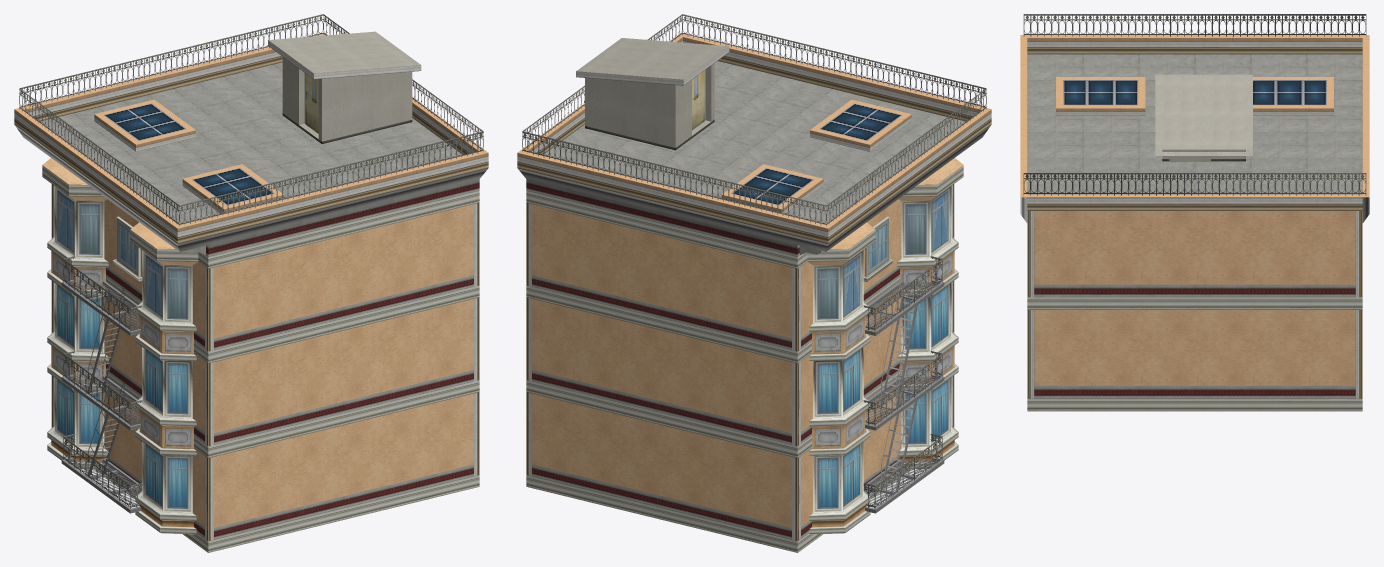
The model's file is MHouseJ.fbx.
3 views of the same model, side by side, from view 1: azimuth 30°, elevation 25°; view 2: azimuth 150°, elevation 25°; view 3: azimuth 270°, elevation 25° (orthographic). The views are drawn at different scales.
Parts seen in each view (by area): view 1: ct2_03_n1_ks2_MhouseJ_01; view 2: ct2_03_n1_ks2_MhouseJ_01; view 3: ct2_03_n1_ks2_MhouseJ_01.
Boxes of the visible parts, bbox=[...] form: ct2_03_n1_ks2_MhouseJ_01: bbox=[14, 14, 488, 552]; ct2_03_n1_ks2_MhouseJ_01: bbox=[517, 14, 991, 552]; ct2_03_n1_ks2_MhouseJ_01: bbox=[1020, 14, 1369, 411].
Size of the model in its own units: 1513 by 1837 by 1375.
